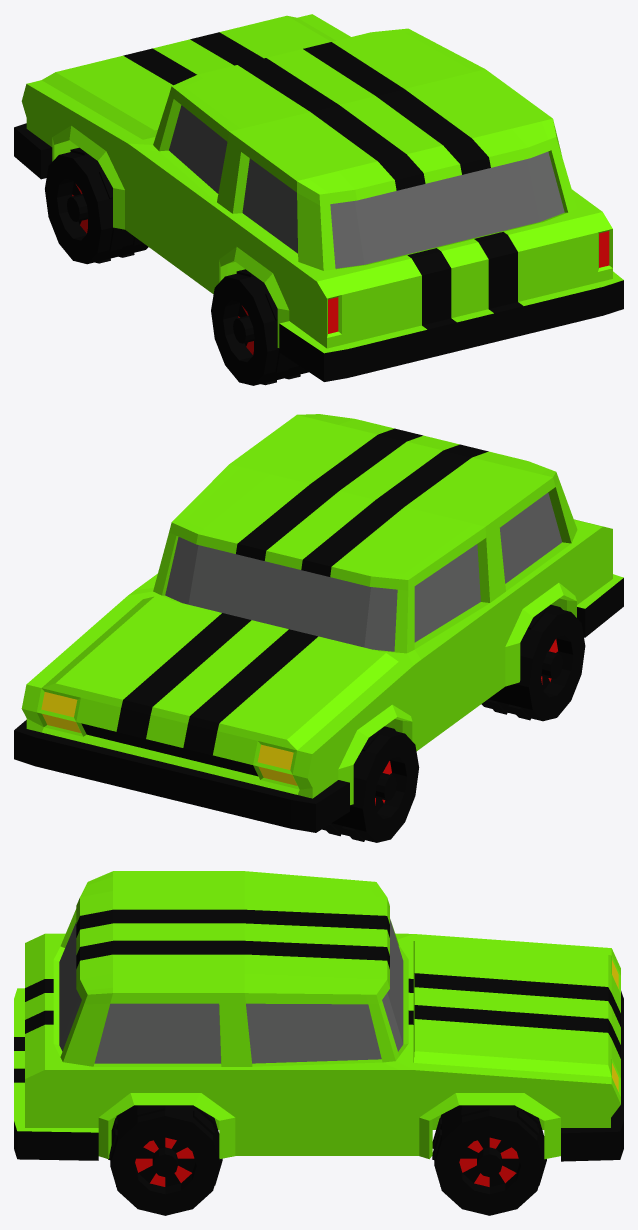
The model's file is Car001.glb.
3 views of the same model, one above another, from view 1: azimuth 30°, elevation 25°; view 2: azimuth 150°, elevation 25°; view 3: azimuth 270°, elevation 25° (orthographic). The views are drawn at different scales.
Visible parts, largest first — view 1: Body, WheelFL, WheelRL; view 2: Body, WheelRL, WheelFL; view 3: Body, WheelFR, WheelRR.
Part boxes in pixels (bbox=[...]): Body: bbox=[14, 14, 623, 381]; WheelFL: bbox=[45, 147, 148, 264]; WheelRL: bbox=[211, 269, 308, 385]; Body: bbox=[14, 414, 623, 832]; WheelRL: bbox=[481, 604, 585, 721]; WheelFL: bbox=[322, 726, 419, 842]; Body: bbox=[14, 871, 623, 1161]; WheelFR: bbox=[432, 1105, 546, 1215]; WheelRR: bbox=[108, 1105, 222, 1215].
Size of the model in its own units: 3.59 by 2.33 by 6.12.
Materials: 2 (2 with a texture image).
